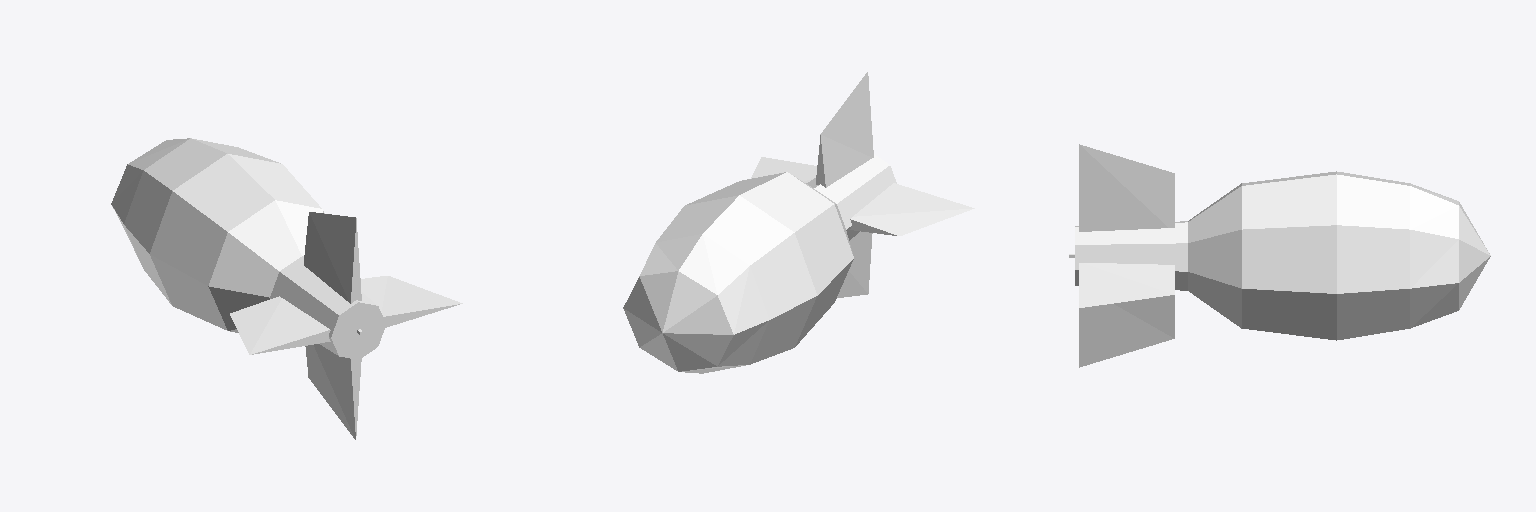
File: mis02.obj
3 views of the same model, side by side, from view 1: azimuth 30°, elevation 25°; view 2: azimuth 150°, elevation 25°; view 3: azimuth 270°, elevation 25° (orthographic).
Parts seen in each view (by area): view 1: frm-cyl1, frm-cube1, frm-cube7, frm-cube6, frm-cube5; view 2: frm-cyl1, frm-cube1, frm-cube7, frm-cube6, frm-cube5; view 3: frm-cyl1, frm-cube1, frm-cube6, frm-cube5.
Part boxes in pixels (bbox=[...]): frm-cyl1: bbox=[111, 138, 385, 359]; frm-cube1: bbox=[304, 212, 361, 303]; frm-cube7: bbox=[230, 296, 330, 354]; frm-cube6: bbox=[305, 344, 361, 439]; frm-cube5: bbox=[361, 276, 462, 327]; frm-cyl1: bbox=[623, 154, 896, 373]; frm-cube1: bbox=[816, 72, 873, 187]; frm-cube7: bbox=[850, 183, 974, 235]; frm-cube6: bbox=[837, 231, 872, 297]; frm-cube5: bbox=[751, 157, 816, 182]; frm-cyl1: bbox=[1075, 171, 1490, 340]; frm-cube1: bbox=[1079, 144, 1174, 231]; frm-cube6: bbox=[1079, 295, 1174, 367]; frm-cube5: bbox=[1079, 263, 1174, 307].
Bounding box in the file's own units: 4.11 × 4.11 × 7.02.